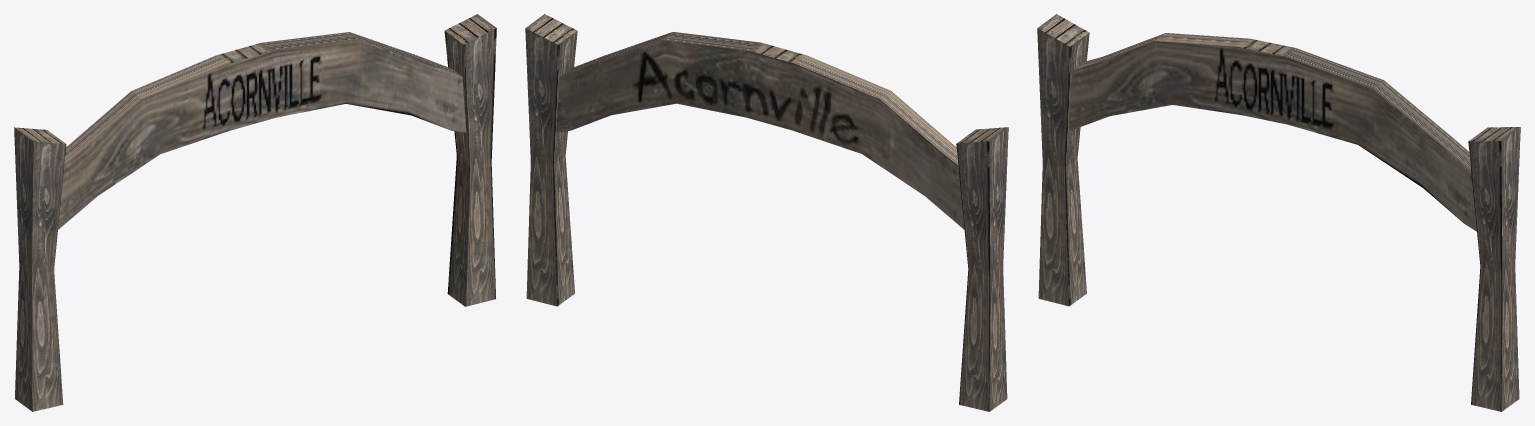
File: AcornvilleSign.fbx
3 renders of one model, left to right at view 1: azimuth 30°, elevation 25°; view 2: azimuth 150°, elevation 25°; view 3: azimuth 330°, elevation 25°, orthographic.
Parts seen in each view (by area): view 1: WoodPlanksFences0127_1_350.003; view 2: WoodPlanksFences0127_1_350.003; view 3: WoodPlanksFences0127_1_350.003.
Boxes of the visible parts, x1,y1,x2,y2 form: WoodPlanksFences0127_1_350.003: (14,14,496,411); WoodPlanksFences0127_1_350.003: (525,14,1008,411); WoodPlanksFences0127_1_350.003: (1037,14,1520,411).
Size of the model in its own units: 2029 by 149 by 1253.
